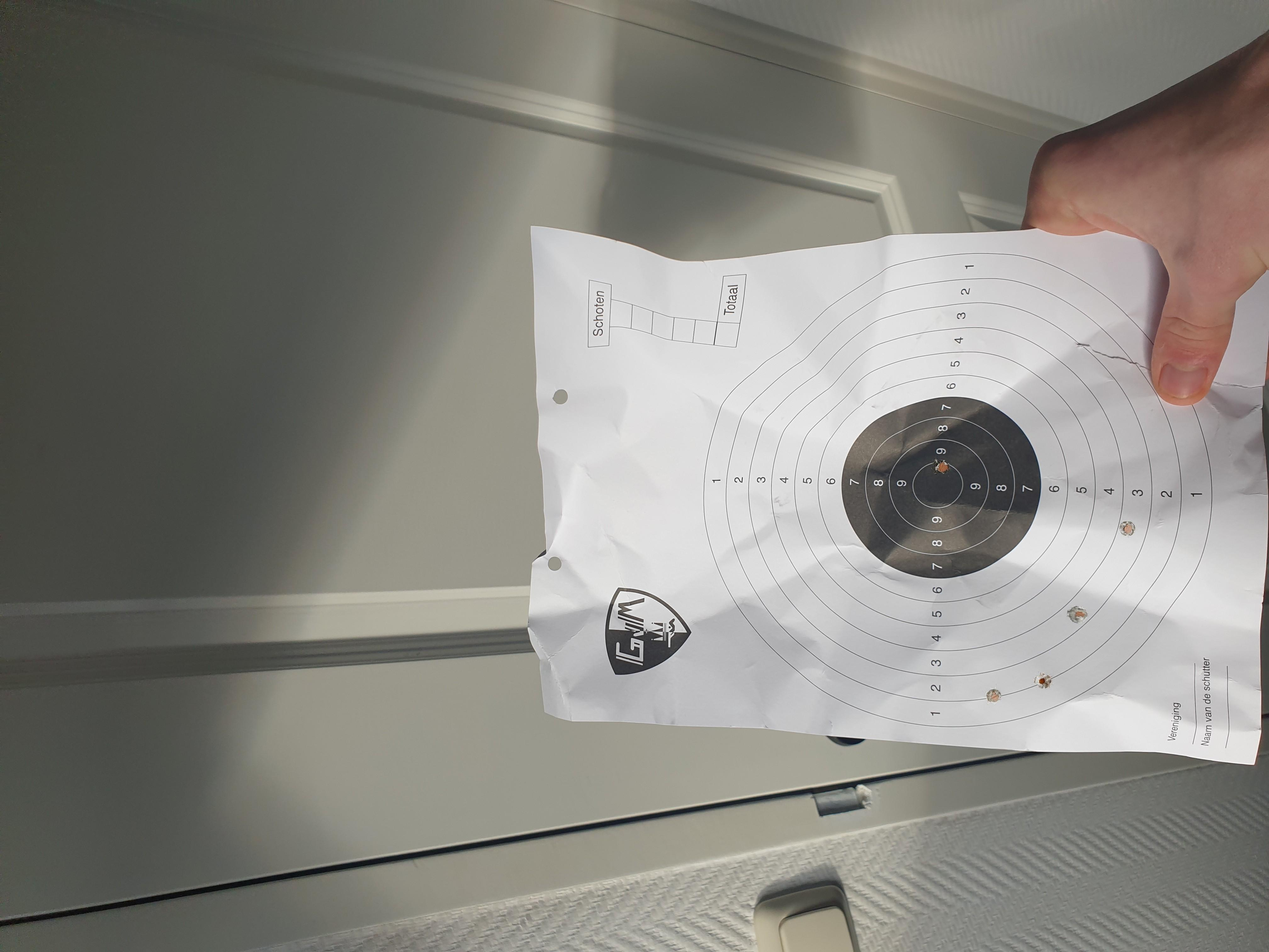hole: (1066, 605, 1088, 624), (1034, 672, 1052, 690), (931, 459, 951, 475), (984, 687, 1002, 703), (1119, 520, 1135, 537)
